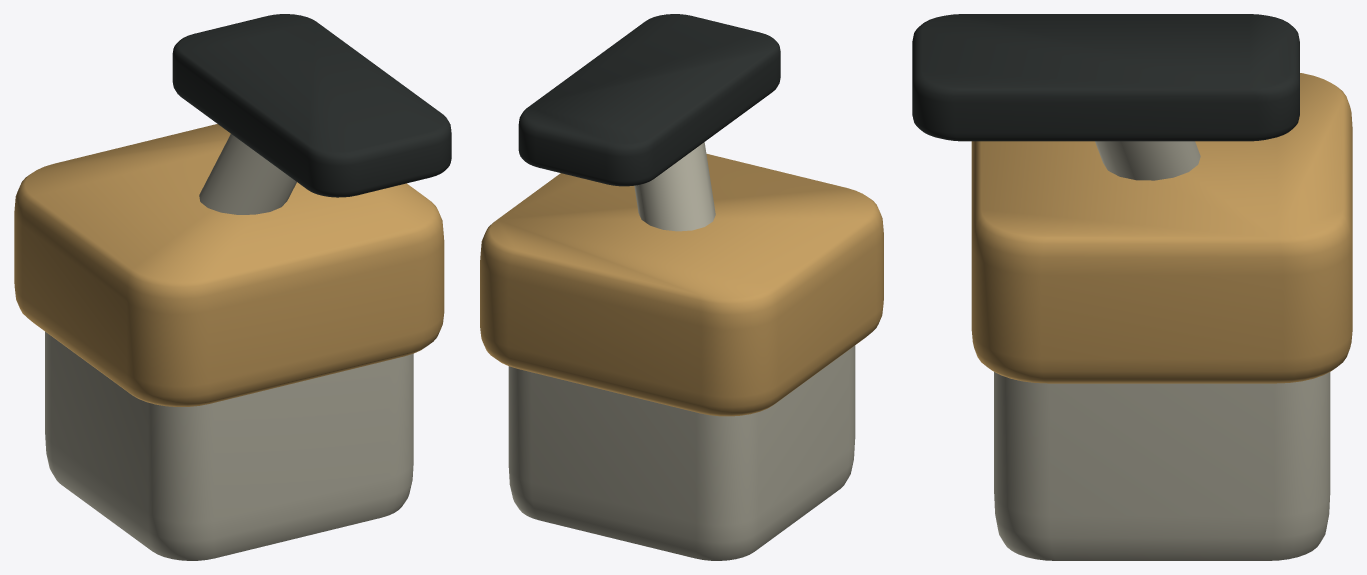
Rendered from Foundry.glb.
3 renders of one model, left to right at view 1: azimuth 30°, elevation 25°; view 2: azimuth 150°, elevation 25°; view 3: azimuth 270°, elevation 25°, orthographic. The views are drawn at different scales.
Visible parts, largest first — view 1: Stop thumb, Stop clamp, Cam paddle, Cam lock; view 2: Stop thumb, Stop clamp, Cam paddle, Cam lock; view 3: Stop thumb, Stop clamp, Cam paddle, Cam lock.
Boxes of the visible parts, x1=… form: Stop thumb: x1=14, y1=124, x2=444, y2=406; Stop clamp: x1=45, y1=331, x2=413, y2=560; Cam paddle: x1=172, y1=14, x2=451, y2=197; Cam lock: x1=199, y1=134, x2=296, y2=214; Stop thumb: x1=480, y1=153, x2=883, y2=416; Stop clamp: x1=508, y1=345, x2=855, y2=560; Cam paddle: x1=518, y1=14, x2=780, y2=186; Cam lock: x1=634, y1=142, x2=715, y2=231; Stop thumb: x1=971, y1=73, x2=1352, y2=383; Stop clamp: x1=994, y1=372, x2=1330, y2=560; Cam paddle: x1=912, y1=14, x2=1299, y2=141; Cam lock: x1=1095, y1=141, x2=1200, y2=180.
Bounding box in the file's own units: 0.185 × 0.233 × 0.1965.
